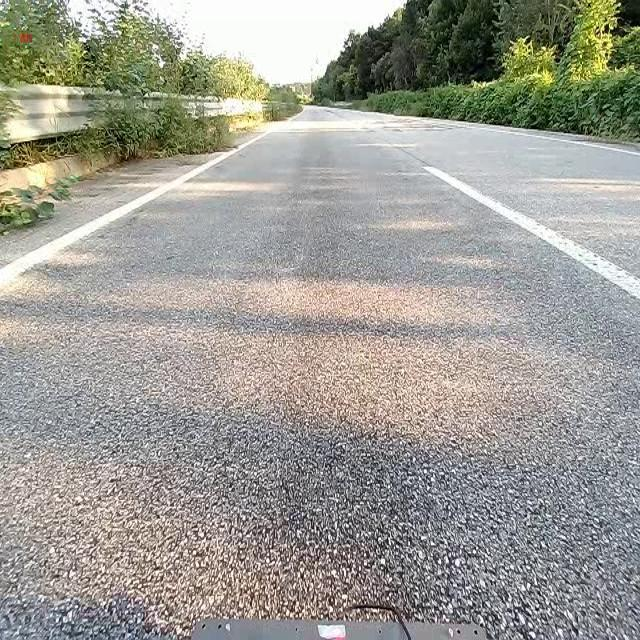Lane: (0, 126, 271, 292), (0, 128, 272, 289), (417, 160, 640, 309), (423, 165, 639, 299)
